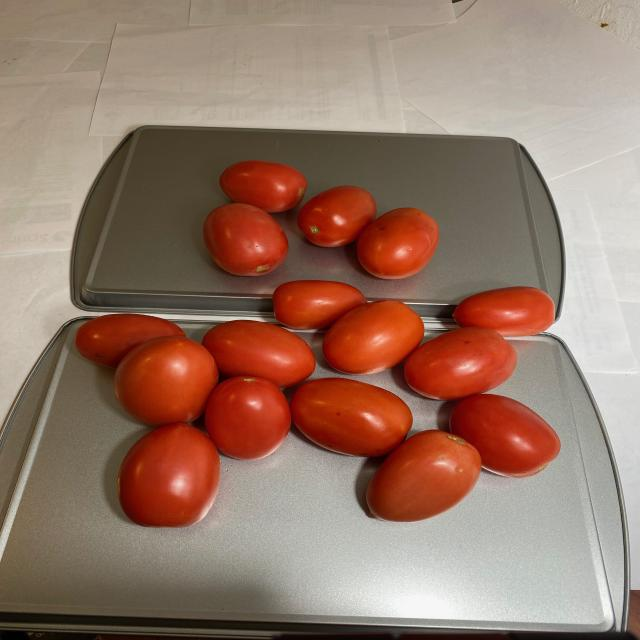tomato: (77, 163, 560, 532)
